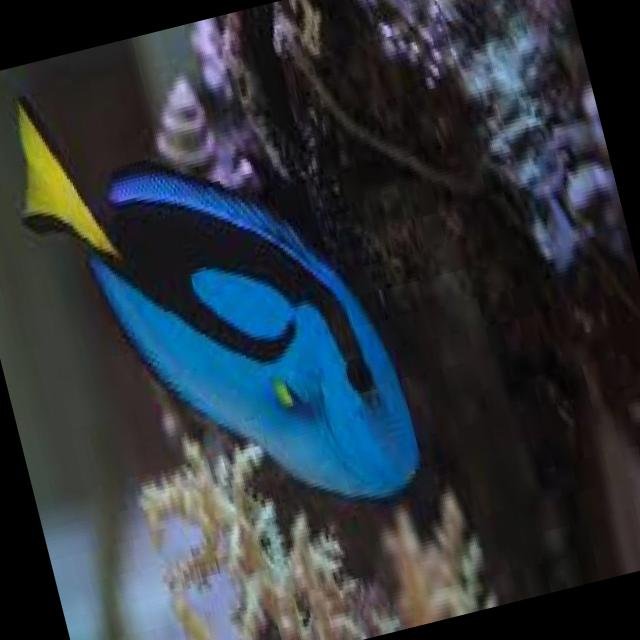TangFish: (0, 25, 431, 565)
